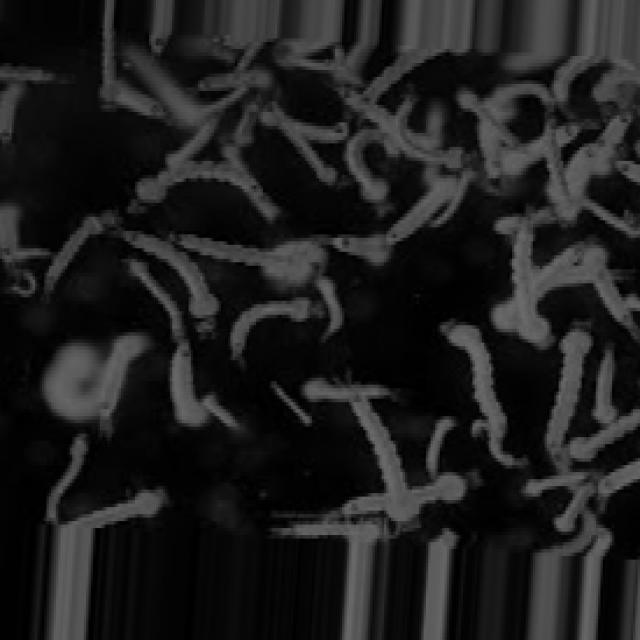larvas: (126, 140, 314, 226), (338, 358, 424, 541), (489, 235, 598, 345), (442, 322, 524, 465), (322, 458, 502, 523), (533, 303, 600, 471), (163, 221, 337, 283), (42, 332, 151, 430), (505, 187, 560, 370), (479, 52, 549, 188), (121, 231, 216, 329), (349, 40, 471, 112), (266, 92, 341, 200), (389, 172, 481, 260), (534, 108, 594, 233), (347, 127, 413, 216), (44, 217, 121, 290), (570, 396, 640, 471), (84, 0, 130, 110), (590, 250, 640, 350), (252, 102, 354, 148), (230, 301, 310, 357), (128, 259, 182, 339), (327, 225, 405, 280), (2, 46, 78, 102), (544, 478, 604, 545), (65, 490, 168, 528), (47, 434, 86, 521), (416, 400, 458, 478), (594, 335, 626, 435), (598, 445, 640, 520), (0, 77, 41, 152), (175, 339, 207, 420), (124, 77, 174, 127), (518, 475, 603, 503), (300, 381, 396, 399), (201, 70, 274, 93), (275, 381, 310, 423)
